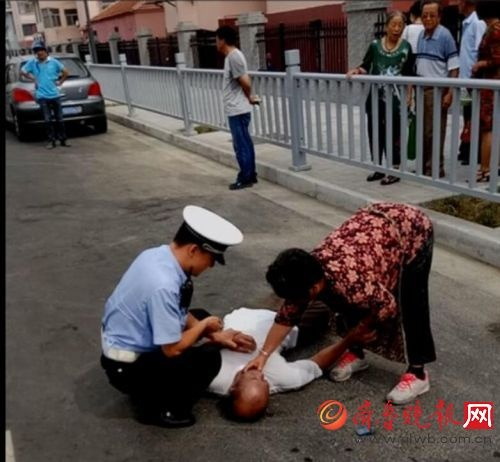falling: (188, 290, 357, 421)
